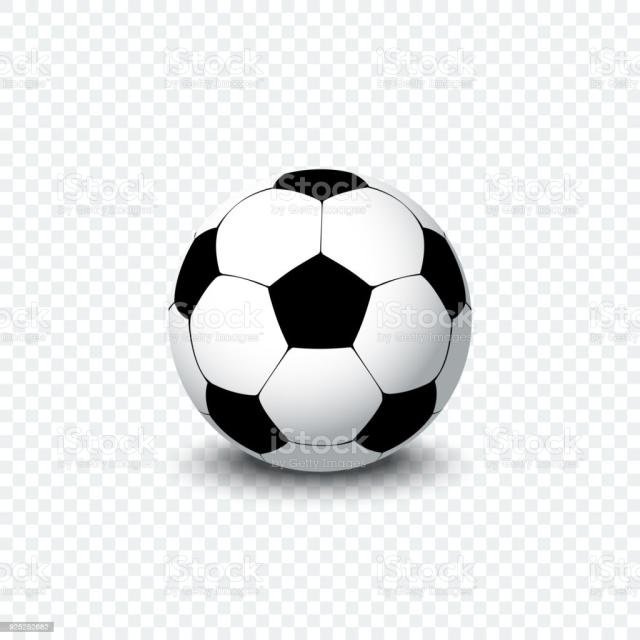soccer ball: (168, 169, 473, 478)
